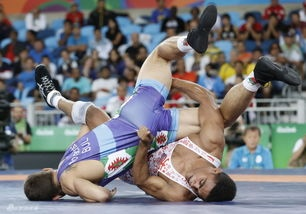falling: (25, 7, 278, 204)
